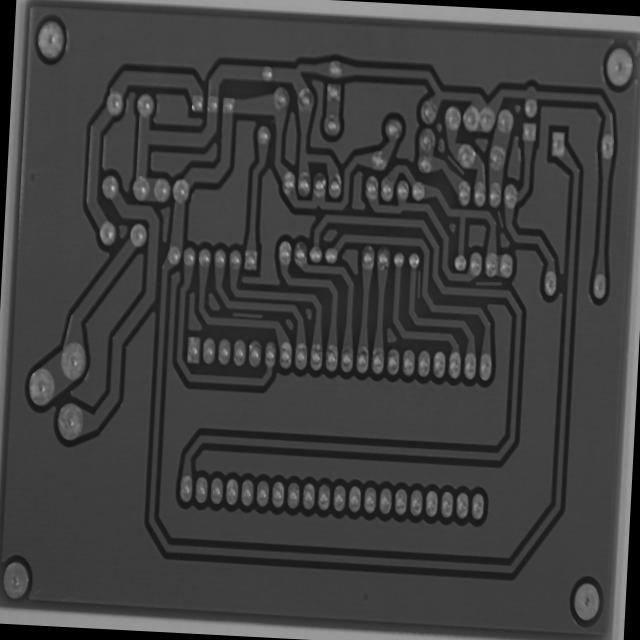spurious_copper: (226, 304, 265, 326), (470, 270, 504, 294), (444, 152, 468, 178), (412, 264, 426, 302), (492, 203, 506, 232)
